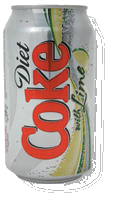grozi_54: (4, 4, 97, 184)
